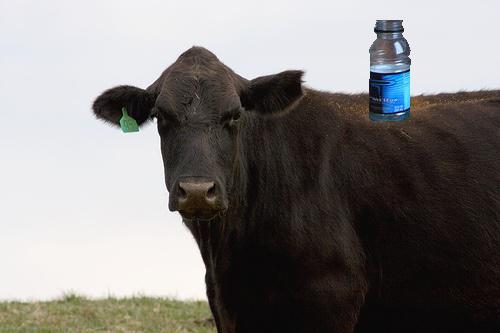tampered: (370, 21, 411, 121)
